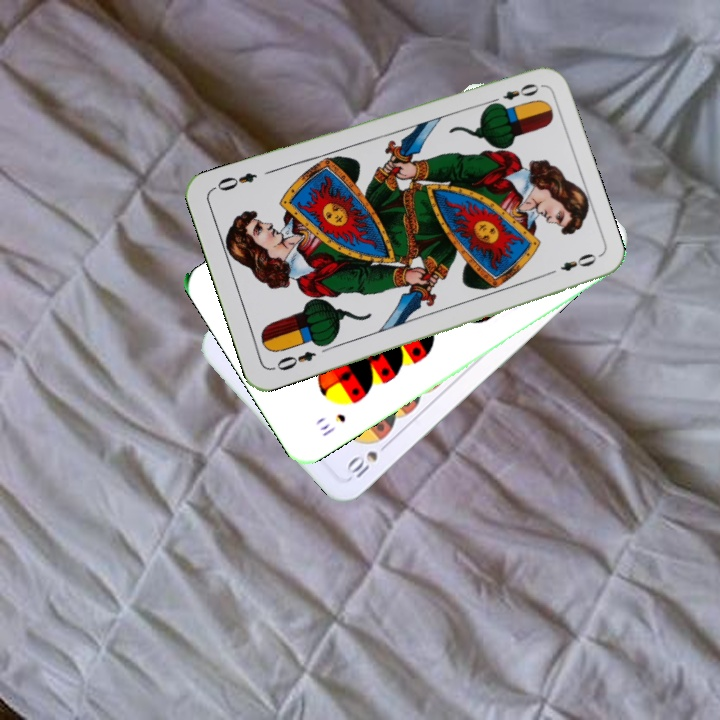EO: (485, 79, 542, 109), (272, 347, 319, 373)
S10: (342, 437, 393, 481), (316, 409, 349, 440)
